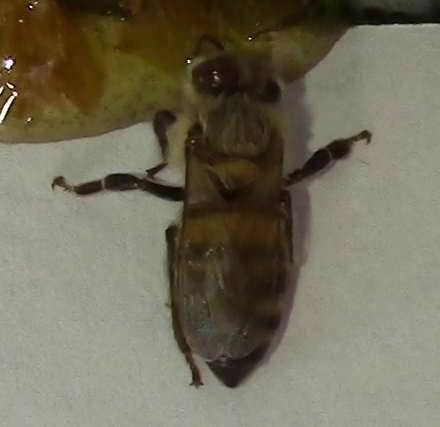Varroa destructor: (189, 51, 247, 98)
